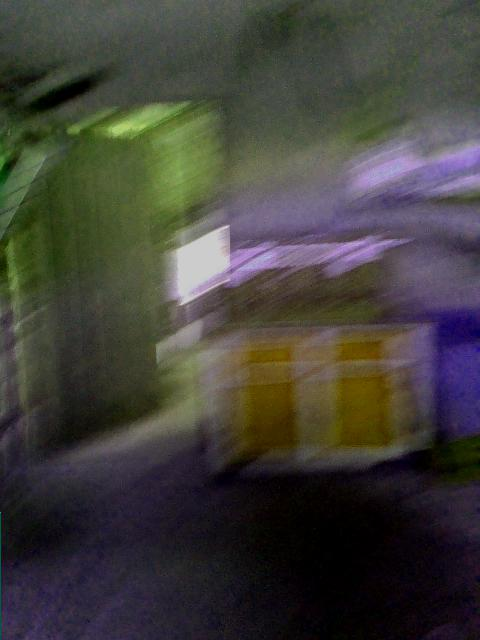semi_door: (40, 95, 235, 462)
